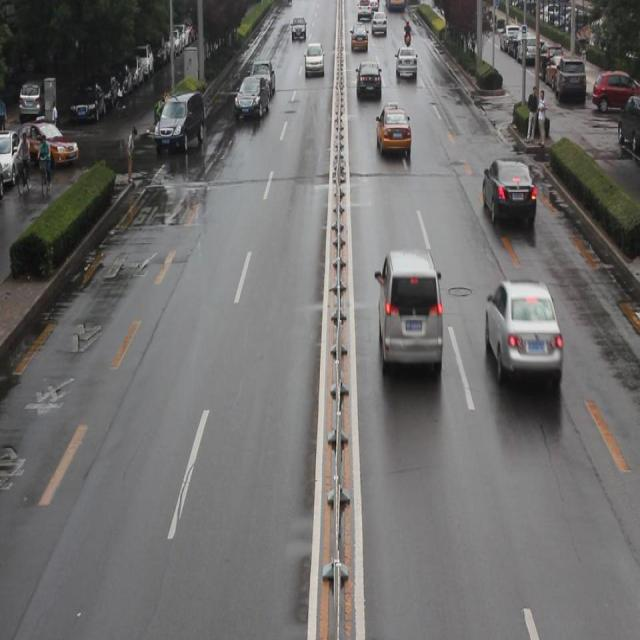car: (486, 278, 562, 386), (482, 155, 534, 230), (374, 102, 410, 160), (233, 75, 270, 121)
truck: (372, 250, 440, 372), (154, 92, 202, 156)
